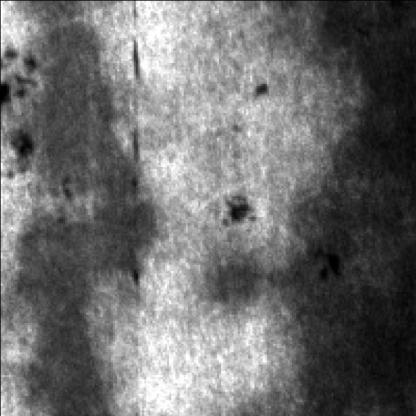inclusion: (0, 48, 42, 164), (210, 187, 258, 235)
patches: (272, 2, 414, 416), (21, 2, 140, 416)
